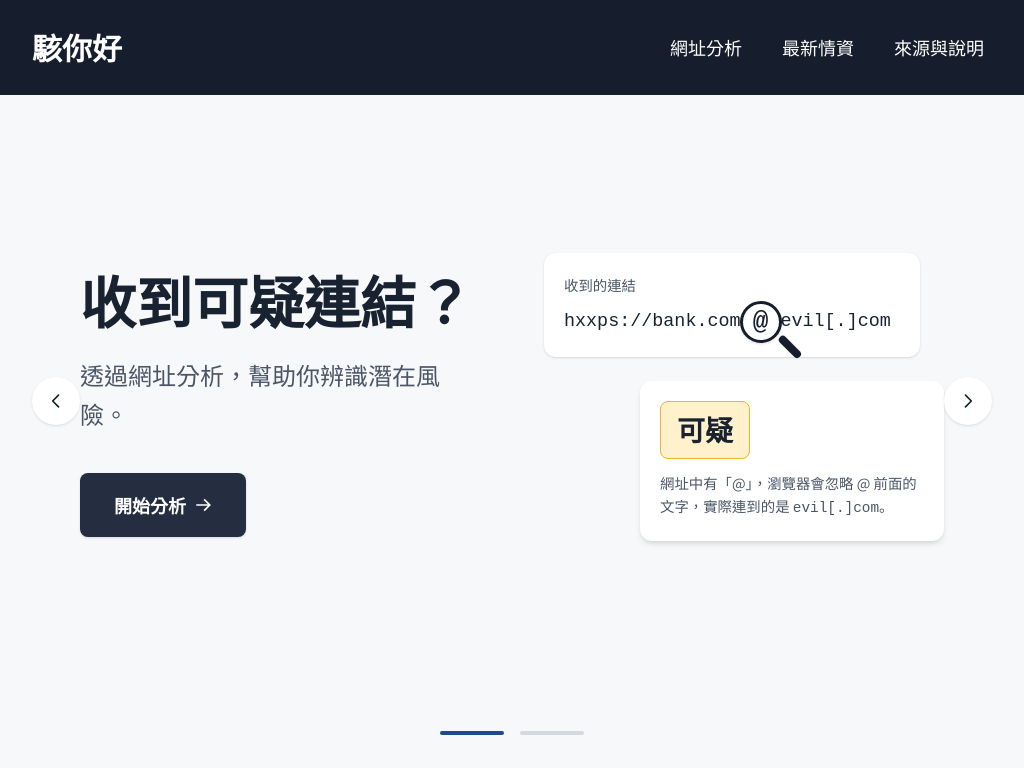
Test: 首頁主視覺輪播 › 點指示線切換到對應的那一張，並標示目前是哪一張
Click the button named "第 2 張：最新情資": (552, 733) [516, 715, 588, 751]
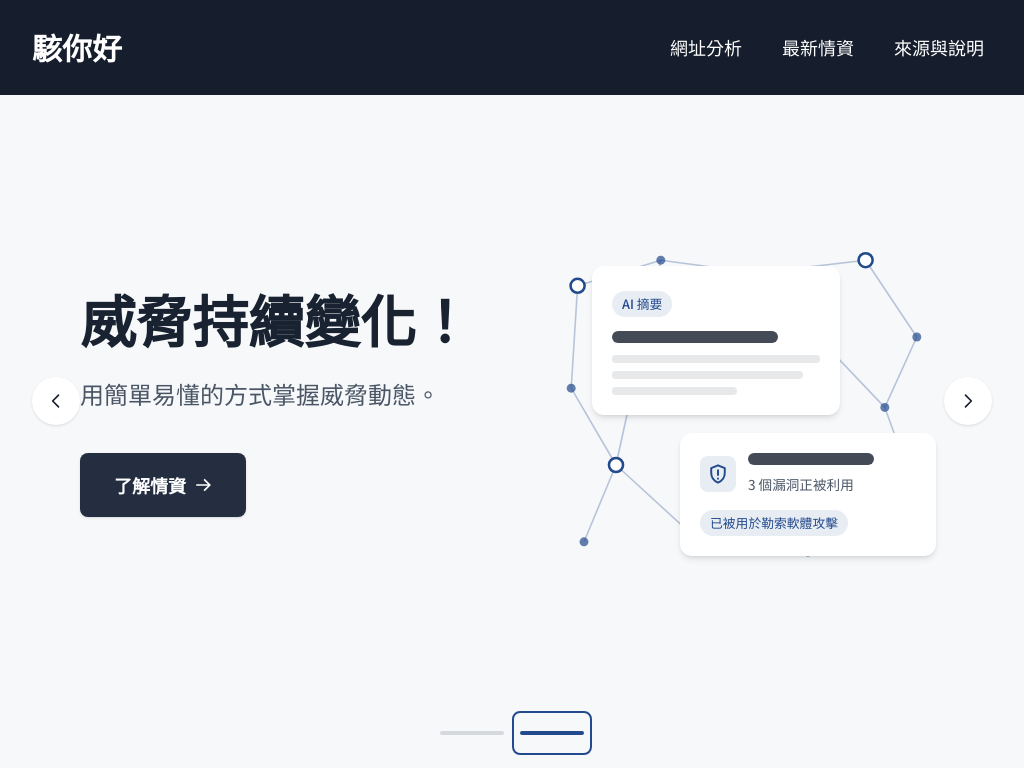
Now the text "威脅持續變化！" is shown, box [80, 284, 480, 354]
